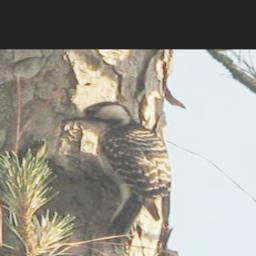Woodpecker: (60, 100, 173, 240)
